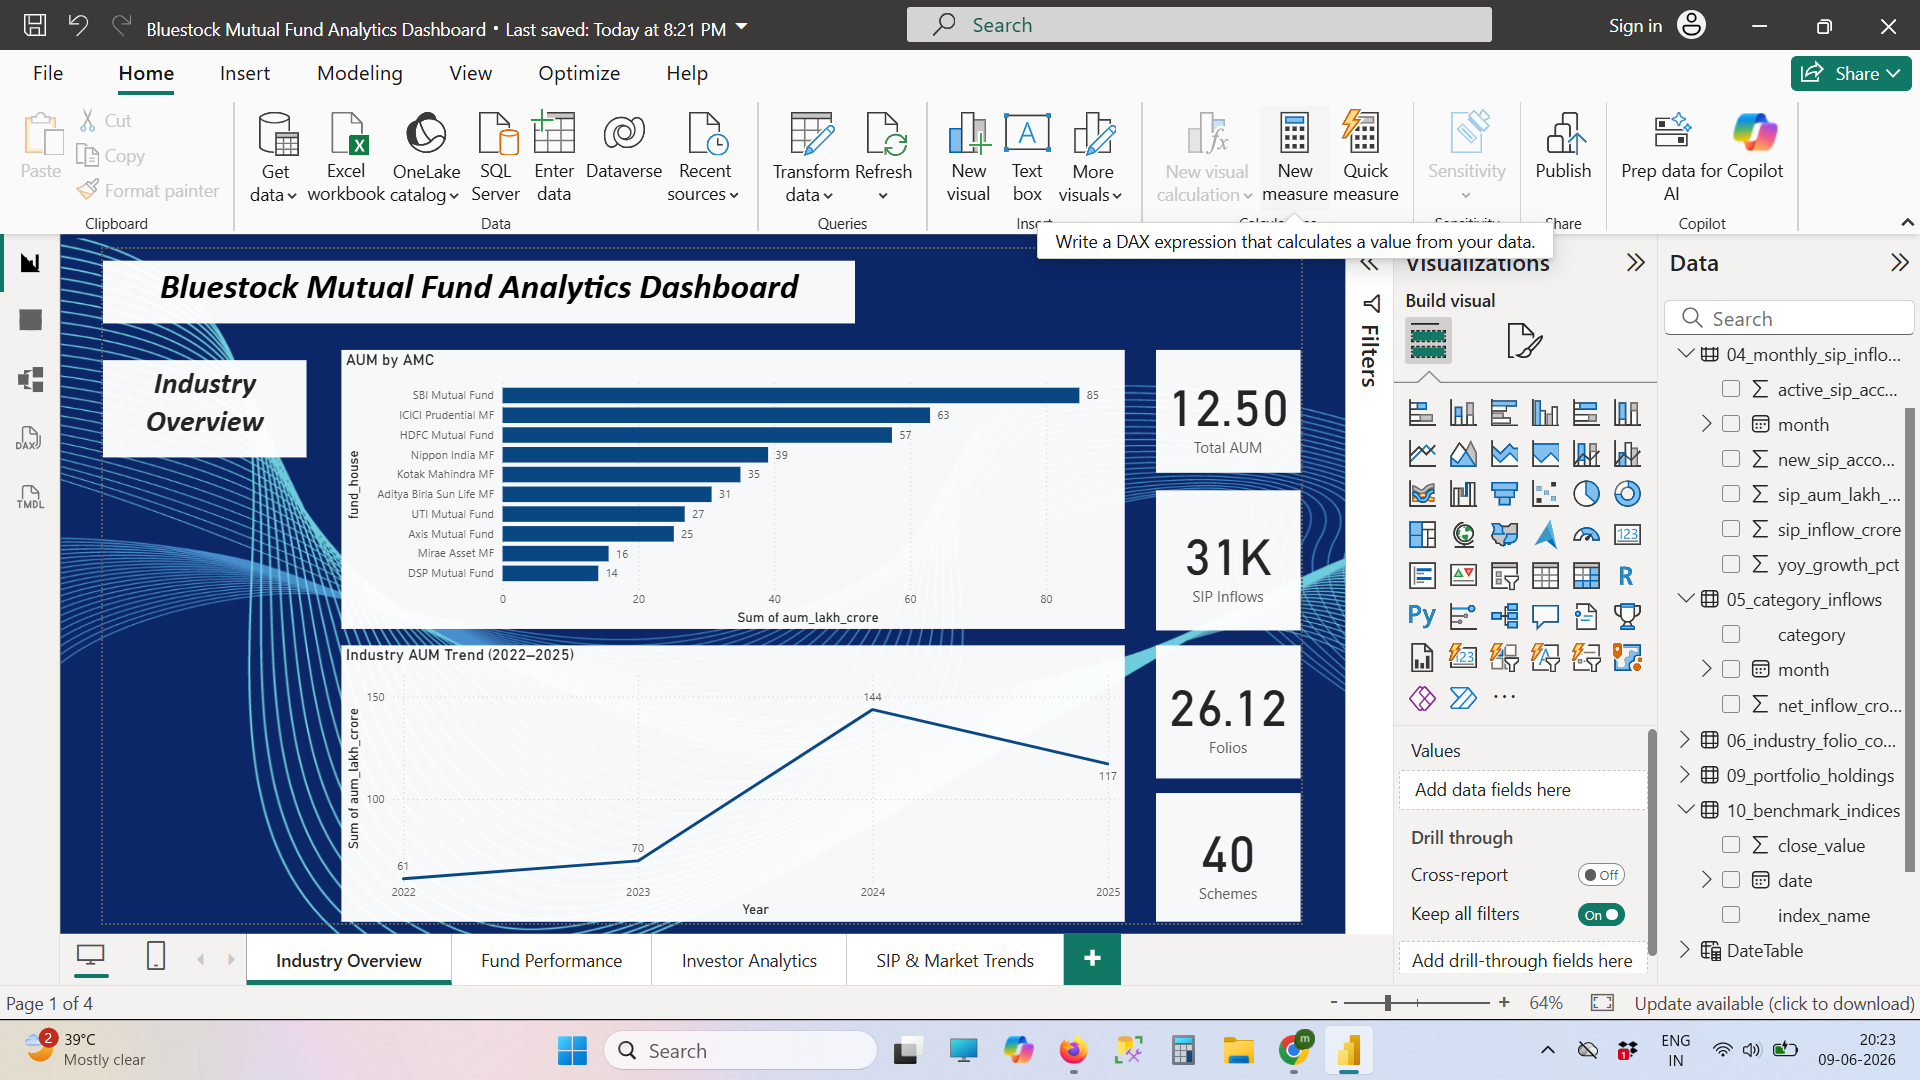

What the dashboard file says about the page in this screenshot:
{"tool":"powerbi","page":{"name":"Industry Overview","canvas":[1280,720],"ordinal":0},"visuals":[{"type":"card","fields":{"Values":["Max(03_aum_by_fund_house.aum_lakh_crore)"]},"box":[1124.9,107.1,154.6,131.6],"z":0},{"type":"card","fields":{"Values":["Max(04_monthly_sip_inflows.sip_inflow_crore)"]},"box":[1124.9,257.1,154.6,150],"z":1000},{"type":"card","fields":{"Values":["Max(06_industry_folio_count.total_folios_crore)"]},"box":[1124.9,423.9,154.6,142.3],"z":2000},{"type":"card","fields":{"Values":["Count(01_fund_master.amfi_code)"]},"box":[1124.9,581.6,154.6,137.7],"z":3000},{"type":"lineChart","title":"Industry AUM Trend (2022–2025)","fields":{"Category":["03_aum_by_fund_house.date.Variation.Date Hierarchy.Year"],"Y":["Sum(03_aum_by_fund_house.aum_lakh_crore)"]},"box":[254.1,423.9,837.2,295.4],"z":4000},{"type":"clusteredBarChart","title":"AUM by AMC","fields":{"Category":["03_aum_by_fund_house.fund_house"],"Y":["Sum(03_aum_by_fund_house.aum_lakh_crore)"]},"box":[254.1,107.1,837.2,298.4],"z":5000},{"type":"textbox","box":[0,12.2,803.5,67.3],"z":6000},{"type":"textbox","box":[0,119.4,217.3,104.1],"z":7000}]}

Visuals, with their boxes on the page's 1280x720 design canvas (x1, y1, x2, y2). These are canvas units, not pixel positions in the 1920x1080 screenshot, which may show the page scaled, cropped or inside an application window:
card - Max(03_aum_by_fund_house.aum_lakh_crore): 1125:107:1280:239
card - Max(04_monthly_sip_inflows.sip_inflow_crore): 1125:257:1280:407
card - Max(06_industry_folio_count.total_folios_crore): 1125:424:1280:566
card - Count(01_fund_master.amfi_code): 1125:582:1280:719
"Industry AUM Trend (2022–2025)" lineChart: 254:424:1091:719
"AUM by AMC" clusteredBarChart: 254:107:1091:406
textbox: 0:12:804:80
textbox: 0:119:217:224
